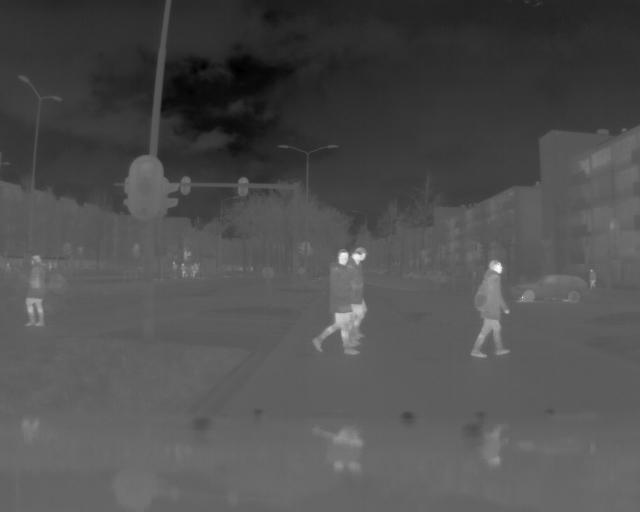car: (508, 271, 590, 311)
person: (468, 255, 512, 361), (315, 248, 357, 358), (343, 246, 380, 346), (24, 252, 48, 329)
